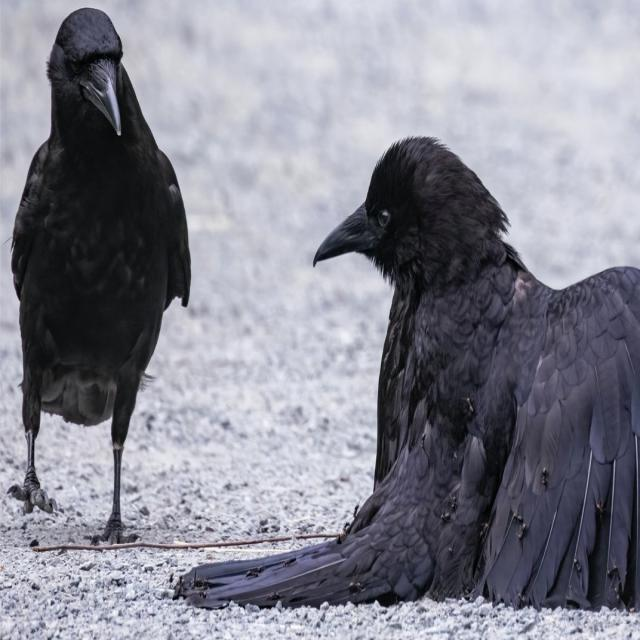crow: (179, 137, 639, 610), (8, 8, 190, 544)
